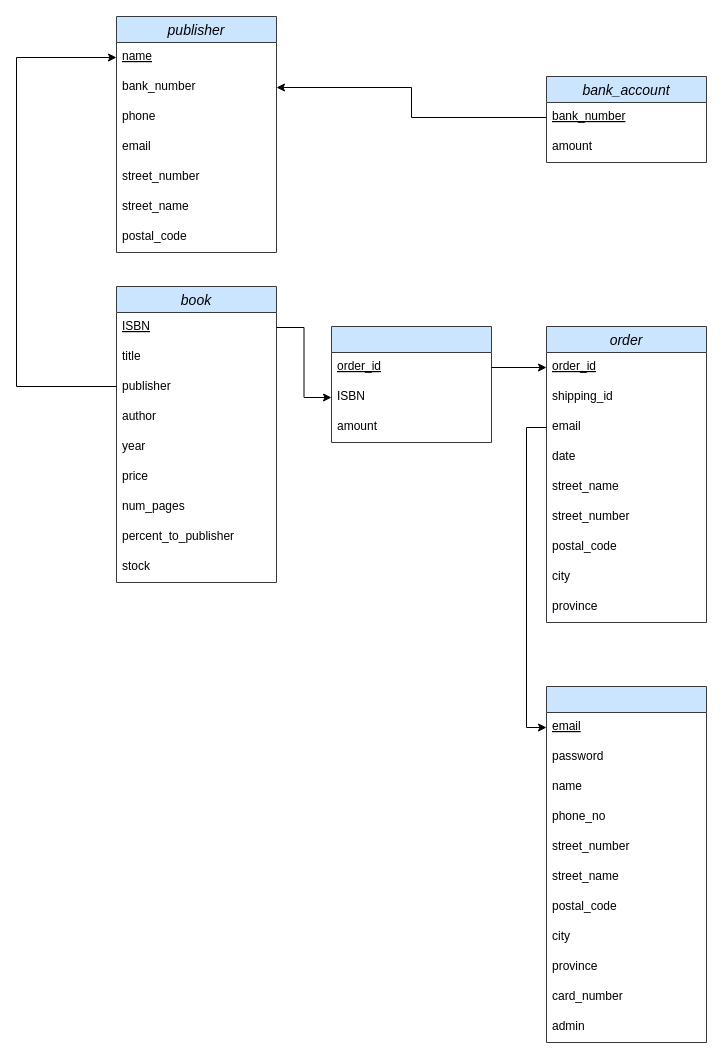
This 723x1059 diagram has some shape labels left out. Each missing label, with the box of its shape:
books_in_order: (330, 326, 492, 442)
customer: (546, 686, 706, 1042)
